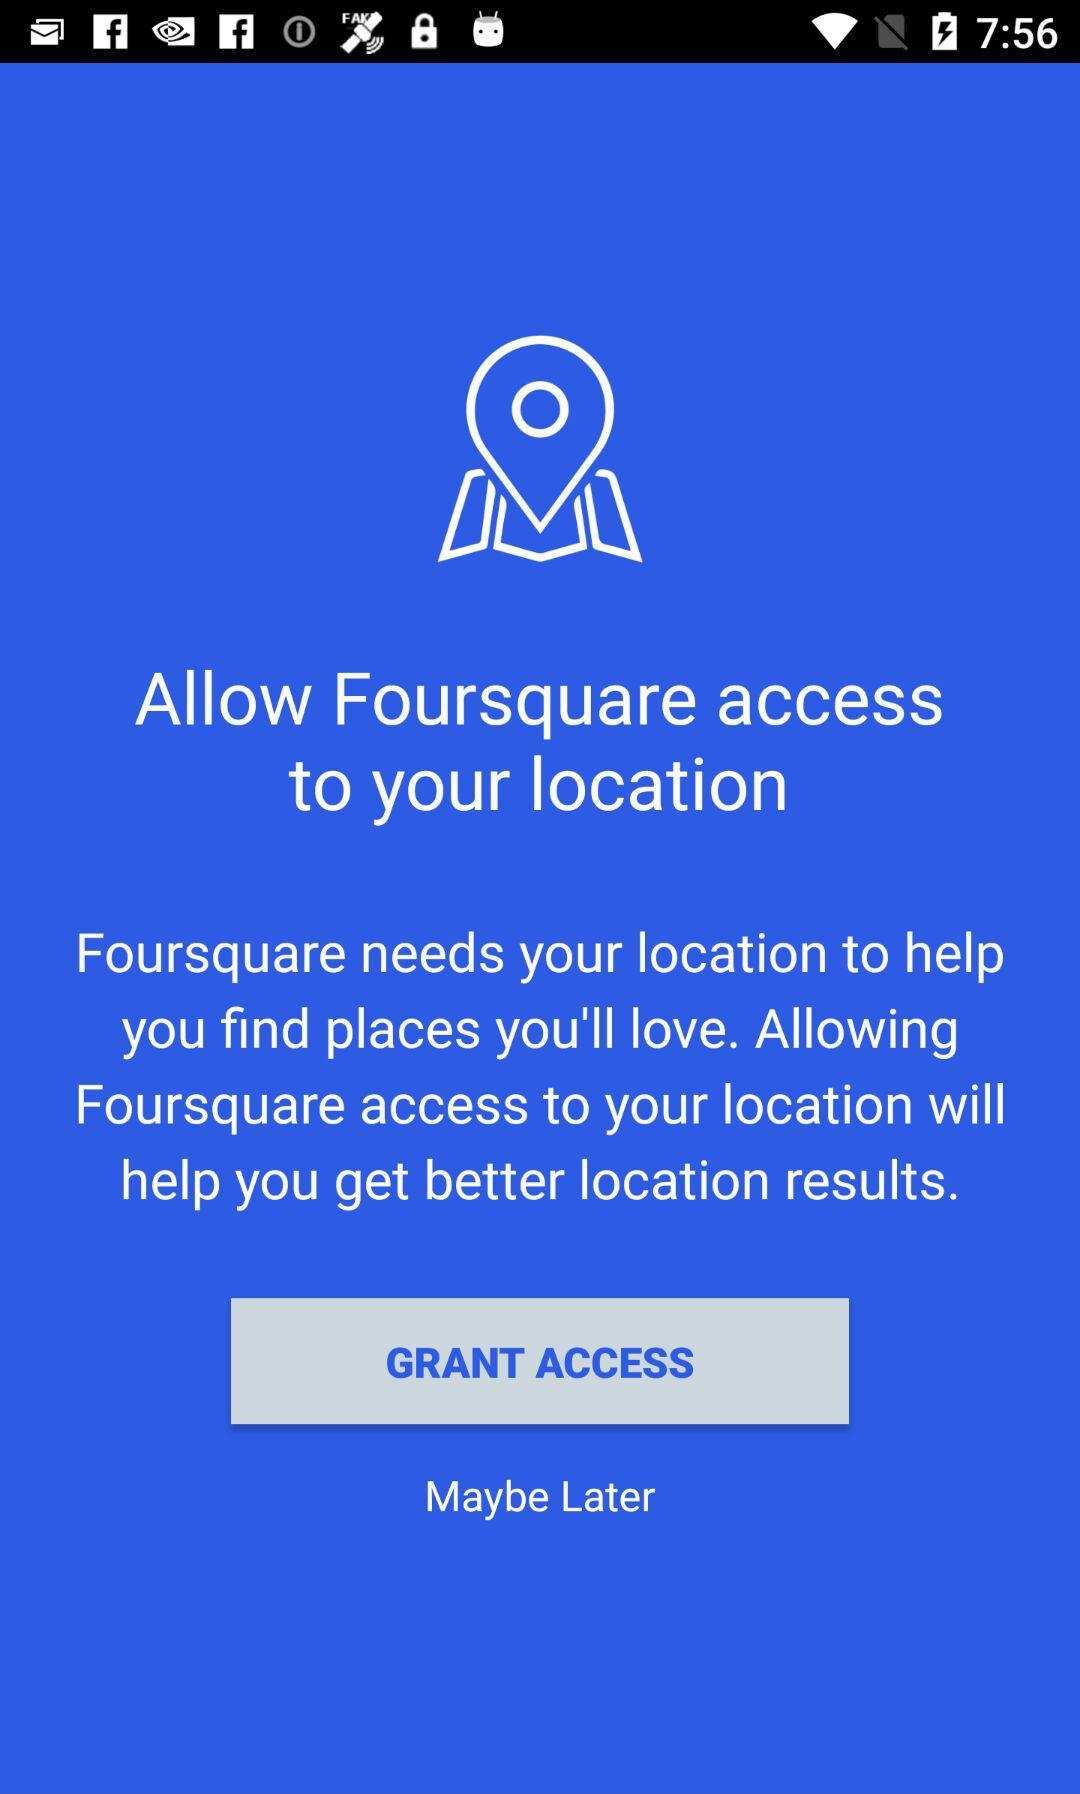Icon: (436, 334, 644, 566)
Text: (78, 930, 1004, 1214), (135, 668, 943, 829), (427, 1479, 657, 1521)
TextButton: (231, 1298, 849, 1425)
UpperTaskBar: (1, 1, 1080, 64)
